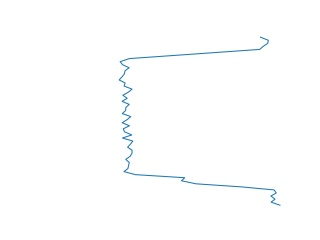distributaryChannelFill: (116, 38, 285, 206)
